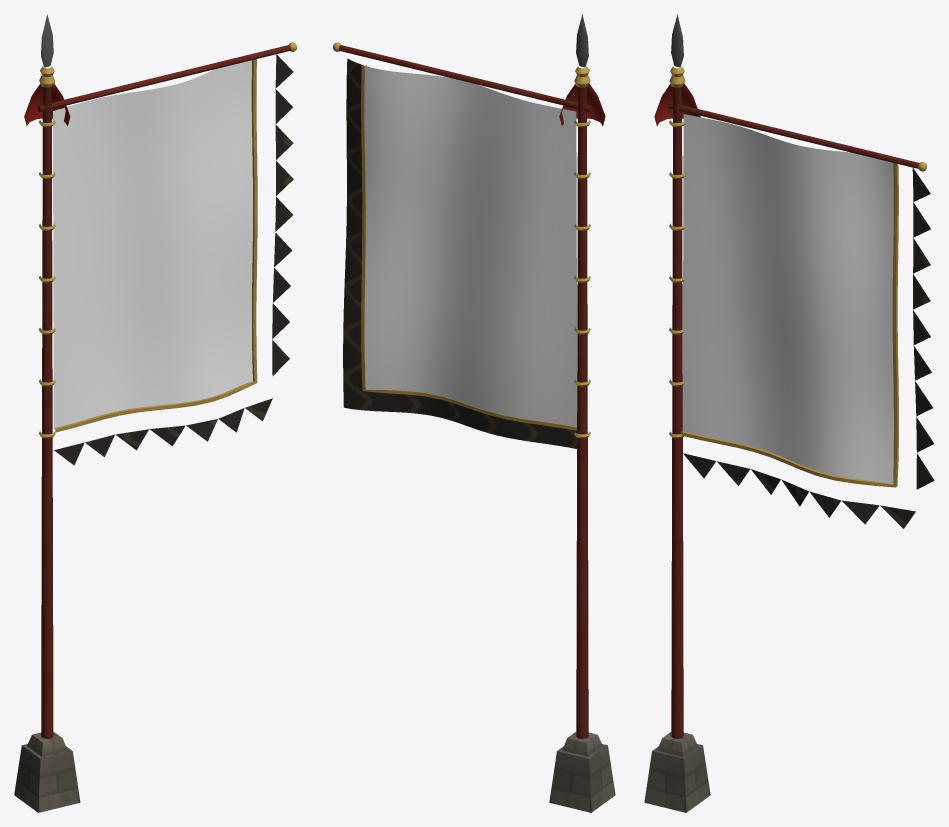
The model's file is Banner.glb.
The picture shows the model from 3 angles, left to right: view 1: azimuth 30°, elevation 25°; view 2: azimuth 150°, elevation 25°; view 3: azimuth 330°, elevation 25°; orthographic projection.
Parts seen in each view (by area): view 1: P_Banner; view 2: P_Banner; view 3: P_Banner.
Part boxes in pixels (bbox=[...]): P_Banner: bbox=[14, 14, 296, 812]; P_Banner: bbox=[333, 14, 615, 812]; P_Banner: bbox=[644, 14, 934, 812].
Bounding box in the file's own units: 8.38 × 23.2 × 1.3.
2 materials, 1 textured.
